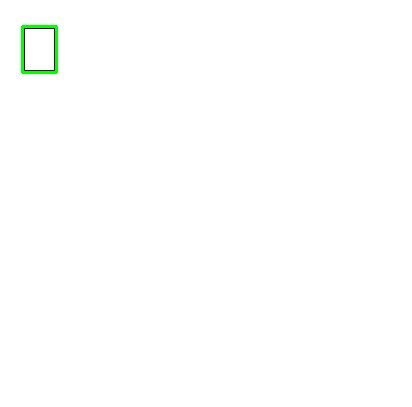line_segment: (21, 25, 58, 74)
